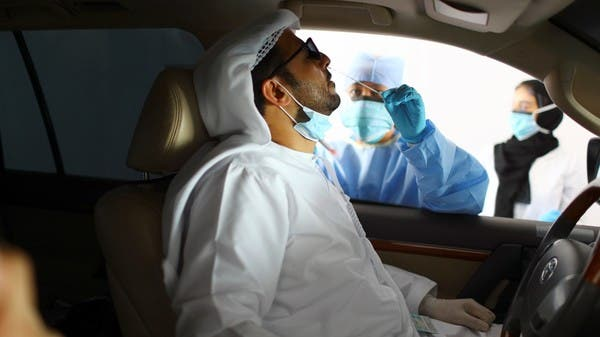with_incorrect_mask: (286, 46, 342, 143)
with_mask: (347, 82, 394, 138)
